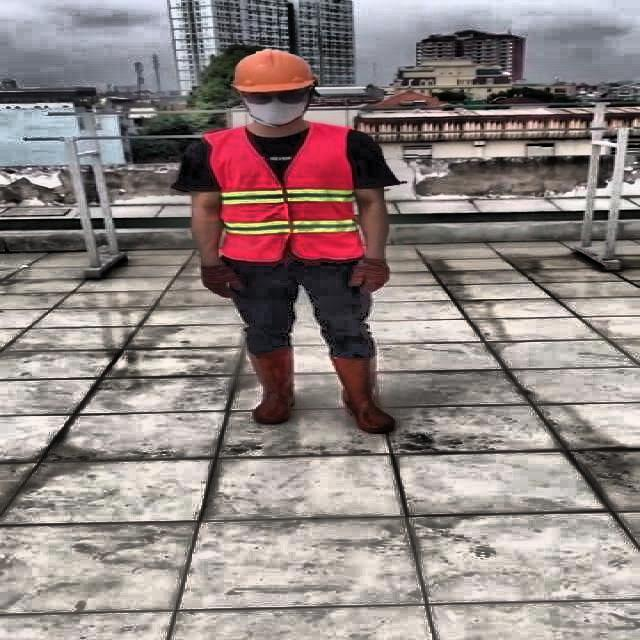safety_jacket: (210, 125, 364, 262)
